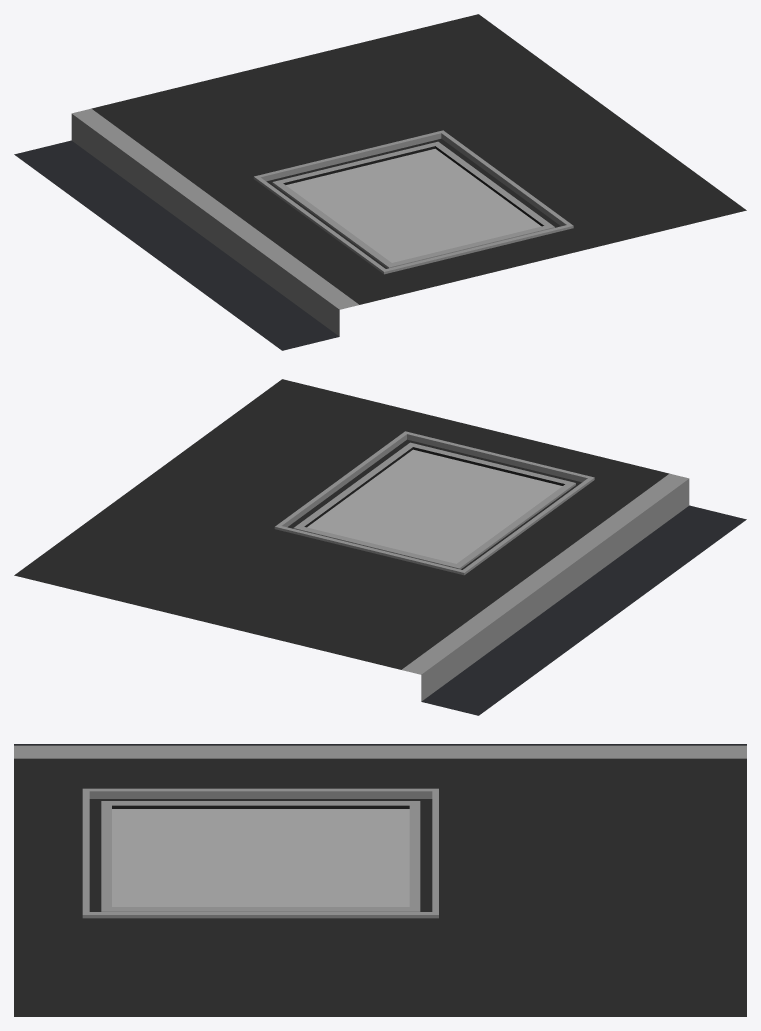
Rendered from Sidewalk_01_Drain.FBX.
3 views of the same model, one above another, from view 1: azimuth 30°, elevation 25°; view 2: azimuth 150°, elevation 25°; view 3: azimuth 270°, elevation 25° (orthographic). The views are drawn at different scales.
Visible parts, largest first — view 1: Sidewalk_01_Drain_LOD0; view 2: Sidewalk_01_Drain_LOD0; view 3: Sidewalk_01_Drain_LOD0.
Boxes of the visible parts, bbox=[...] form: Sidewalk_01_Drain_LOD0: bbox=[14, 14, 746, 350]; Sidewalk_01_Drain_LOD0: bbox=[14, 379, 746, 715]; Sidewalk_01_Drain_LOD0: bbox=[14, 744, 746, 1016].
Size of what is drawn, in the model's own units: 180 by 10.89 by 180.
